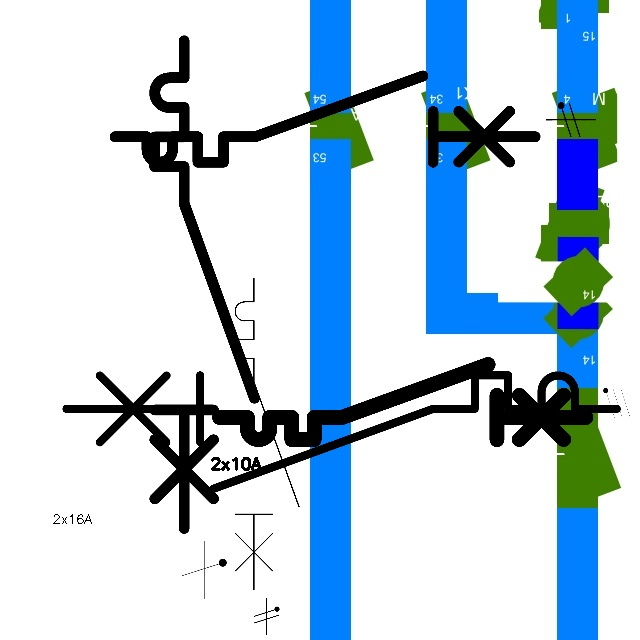interruptor_termomagnetico: (52, 361, 631, 503), (142, 28, 267, 540), (104, 65, 546, 173), (210, 355, 595, 449), (227, 270, 307, 598)
